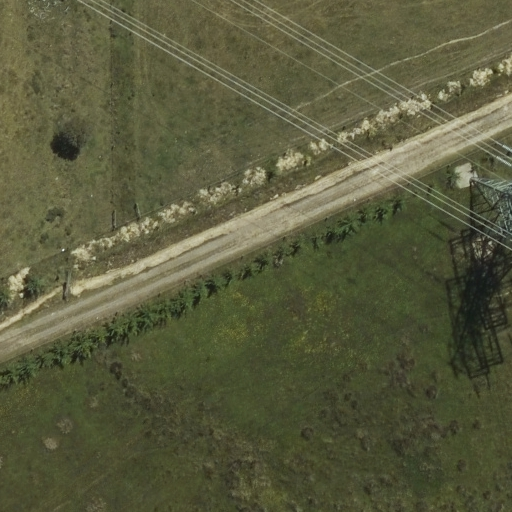TT: (461, 168, 512, 260)
